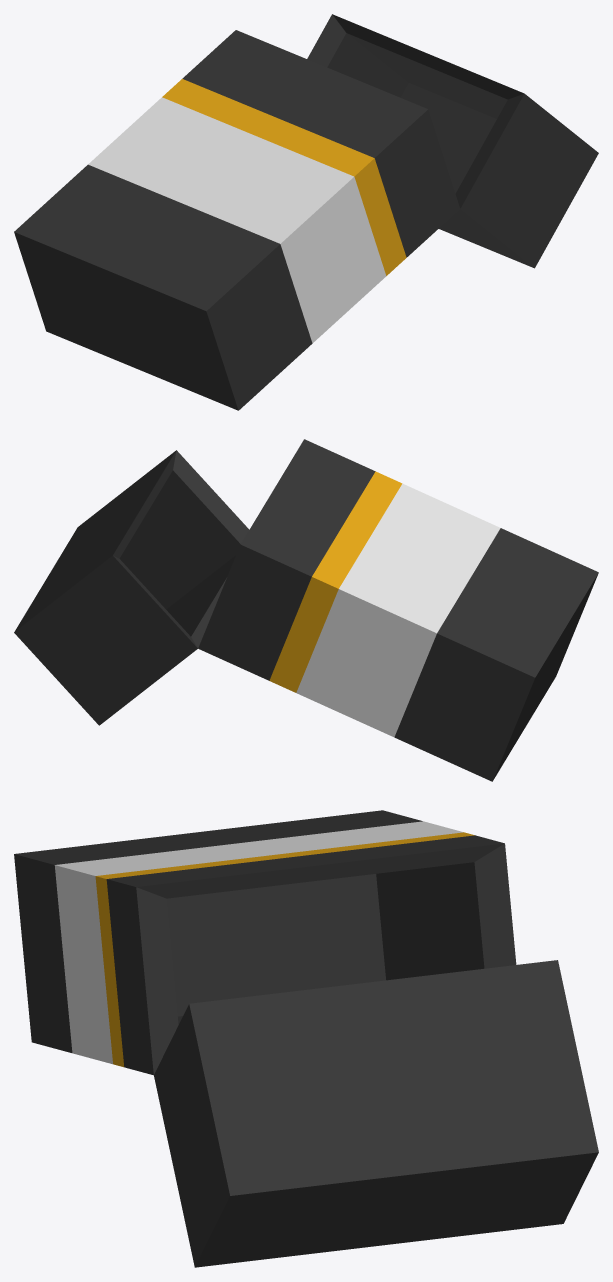
Rendered from Sigara Paket.fbx.
3 renders of one model, top to bottom at view 1: azimuth 30°, elevation 25°; view 2: azimuth 150°, elevation 25°; view 3: azimuth 270°, elevation 25°, orthographic. The views are drawn at different scales.
Parts seen in each view (by area): view 1: Cube.003; view 2: Cube.003; view 3: Cube.003.
Part boxes in pixels (box(x1,y1,x2,y2)): Cube.003: box(14, 14, 598, 410); Cube.003: box(14, 439, 598, 781); Cube.003: box(14, 810, 598, 1267).
Bounding box in the file's own units: 123 × 48.36 × 82.02.
